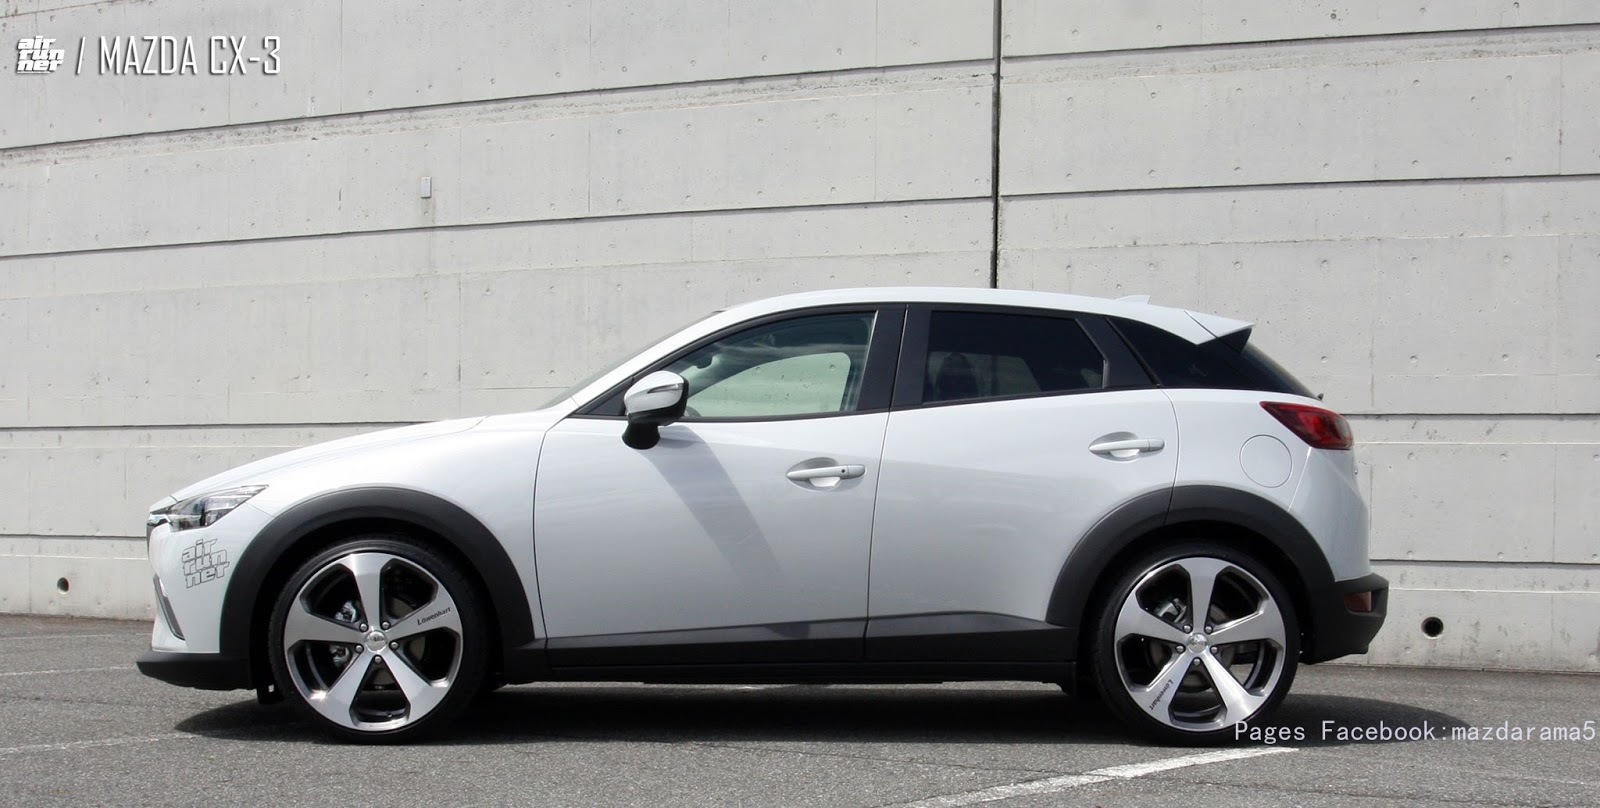pickup: (139, 289, 1392, 744)
